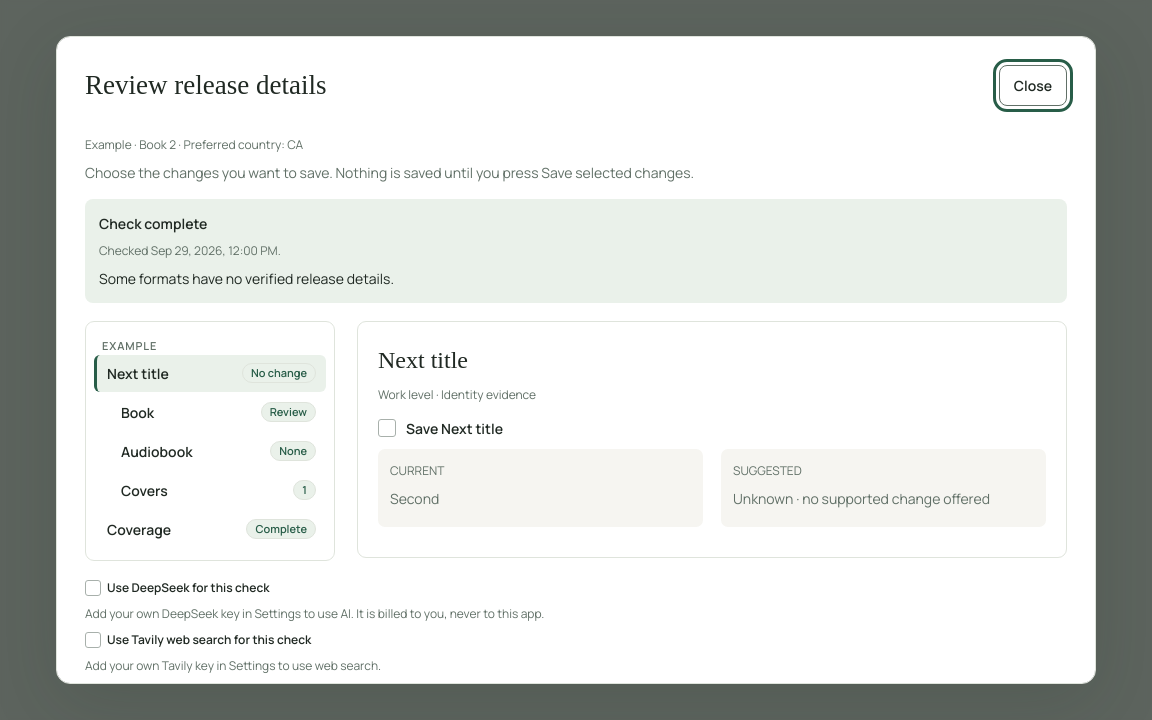
Test: opening the review makes no request and decodes nothing until the user asks for cover previews
Click the tab "Covers 1" at {"x": 217, "y": 490}, box [108,472,326,508]
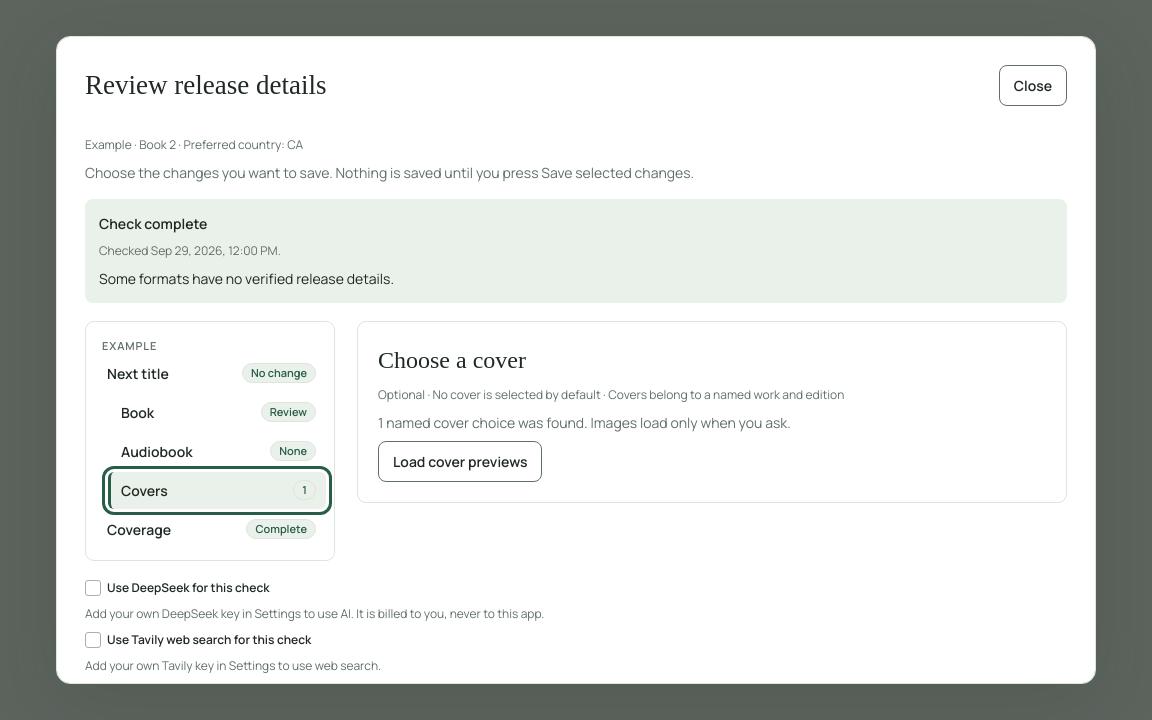
Now the text "Images load only when you ask" is shown, box [544,412,791,432]
Click the button "Load cover previews" at {"x": 460, "y": 461}, box [378,440,542,482]
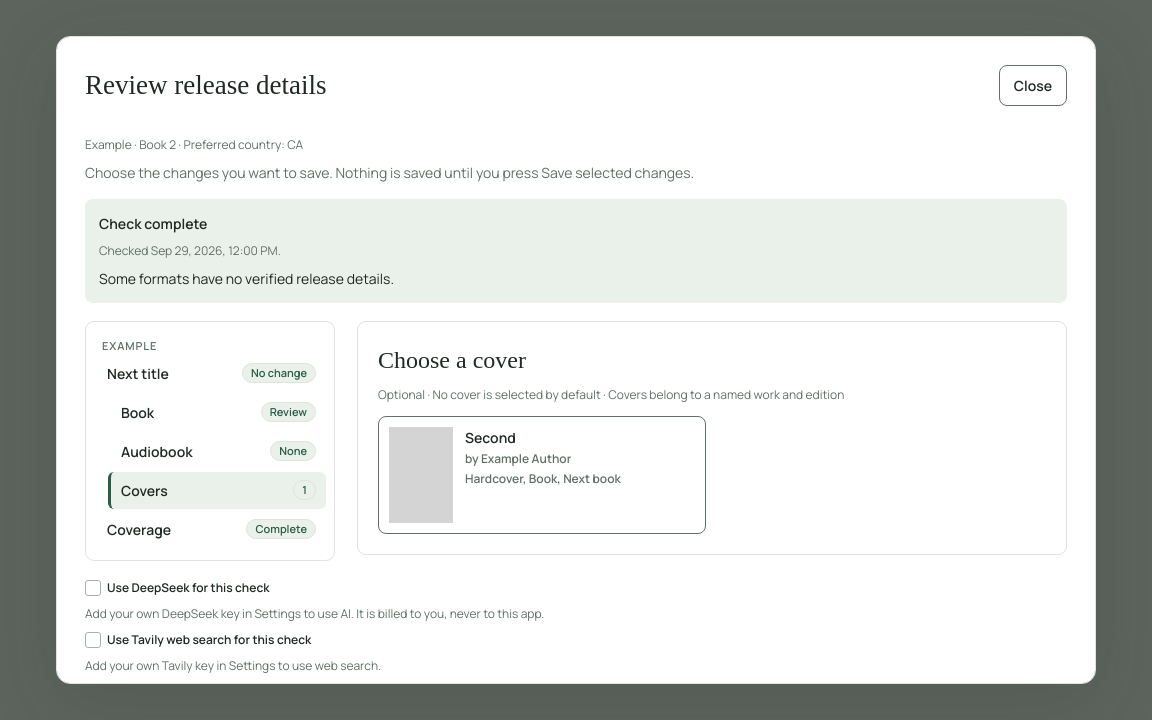
Now the element named "Cover choices" is shown, box [378,416,706,534]
